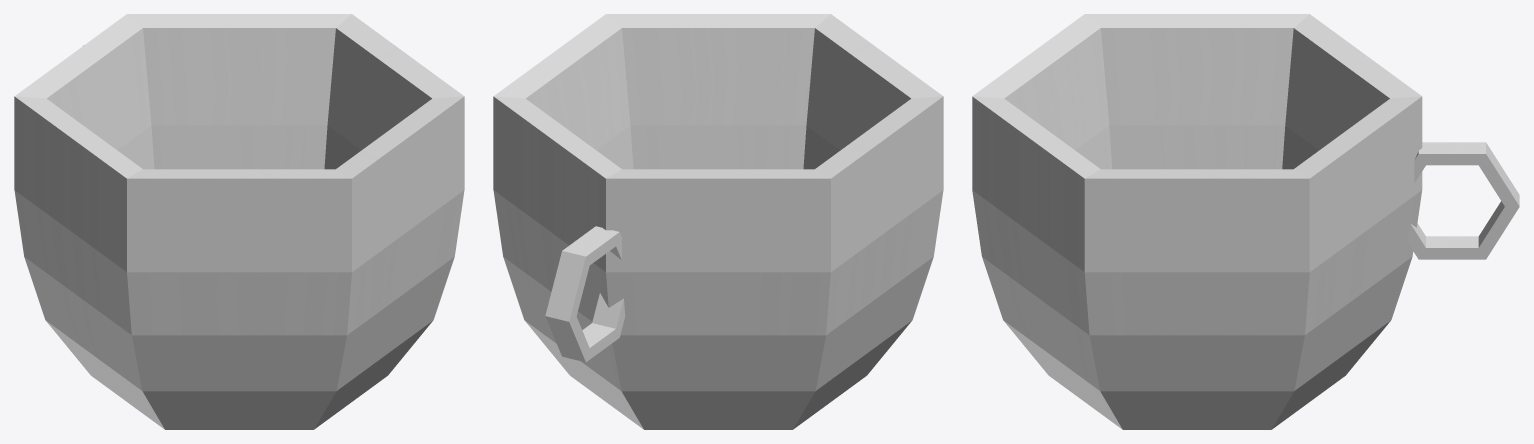
Rendered from tazza.fbx.
The picture shows the model from 3 angles, left to right: view 1: azimuth 30°, elevation 25°; view 2: azimuth 150°, elevation 25°; view 3: azimuth 270°, elevation 25°; orthographic projection.
Visible parts, largest first — view 1: tazza; view 2: tazza; view 3: tazza.
Part boxes in pixels (bbox=[...]): tazza: bbox=[14, 14, 464, 429]; tazza: bbox=[493, 14, 943, 429]; tazza: bbox=[972, 14, 1519, 429].
Bounding box in the file's own units: 0.0767 × 0.0607 × 0.1078.
